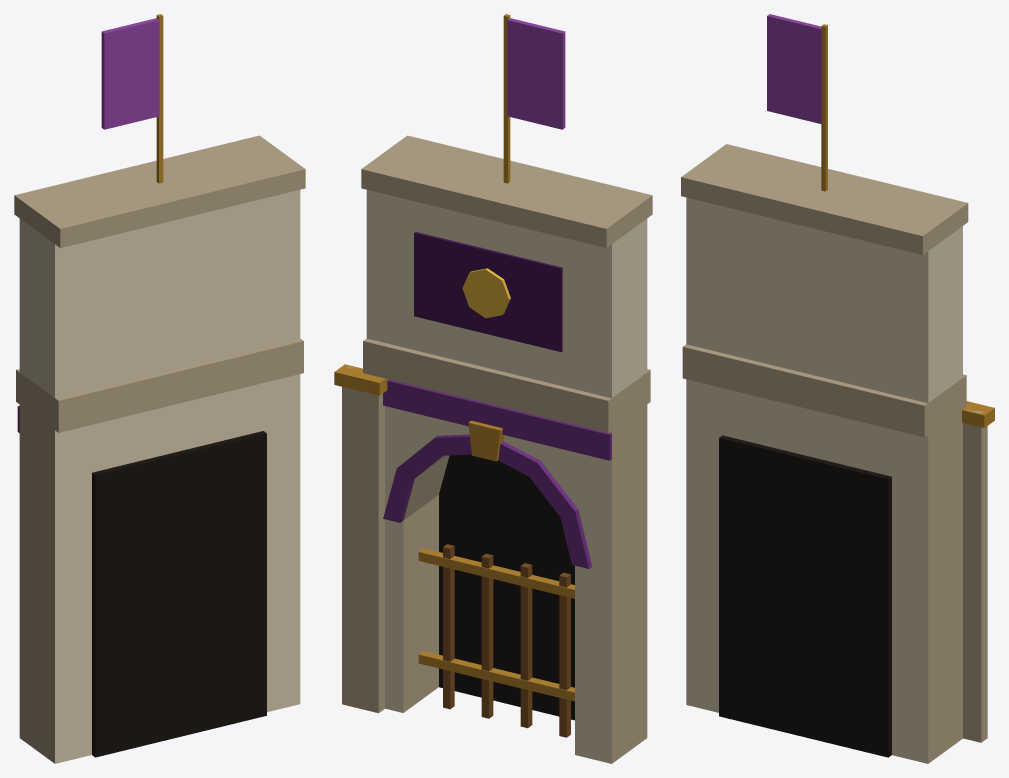
File: SM_Carceres.fbx
3 renders of one model, left to right at view 1: azimuth 30°, elevation 25°; view 2: azimuth 150°, elevation 25°; view 3: azimuth 330°, elevation 25°, orthographic.
Visible parts, largest first — view 1: SM_Carceres; view 2: SM_Carceres; view 3: SM_Carceres.
Boxes of the visible parts, x1,y1,x2,y2 form: SM_Carceres: (14, 14, 305, 763); SM_Carceres: (334, 14, 652, 763); SM_Carceres: (681, 14, 994, 763).
Bounding box in the file's own units: 4.37 × 1.42 × 11.
